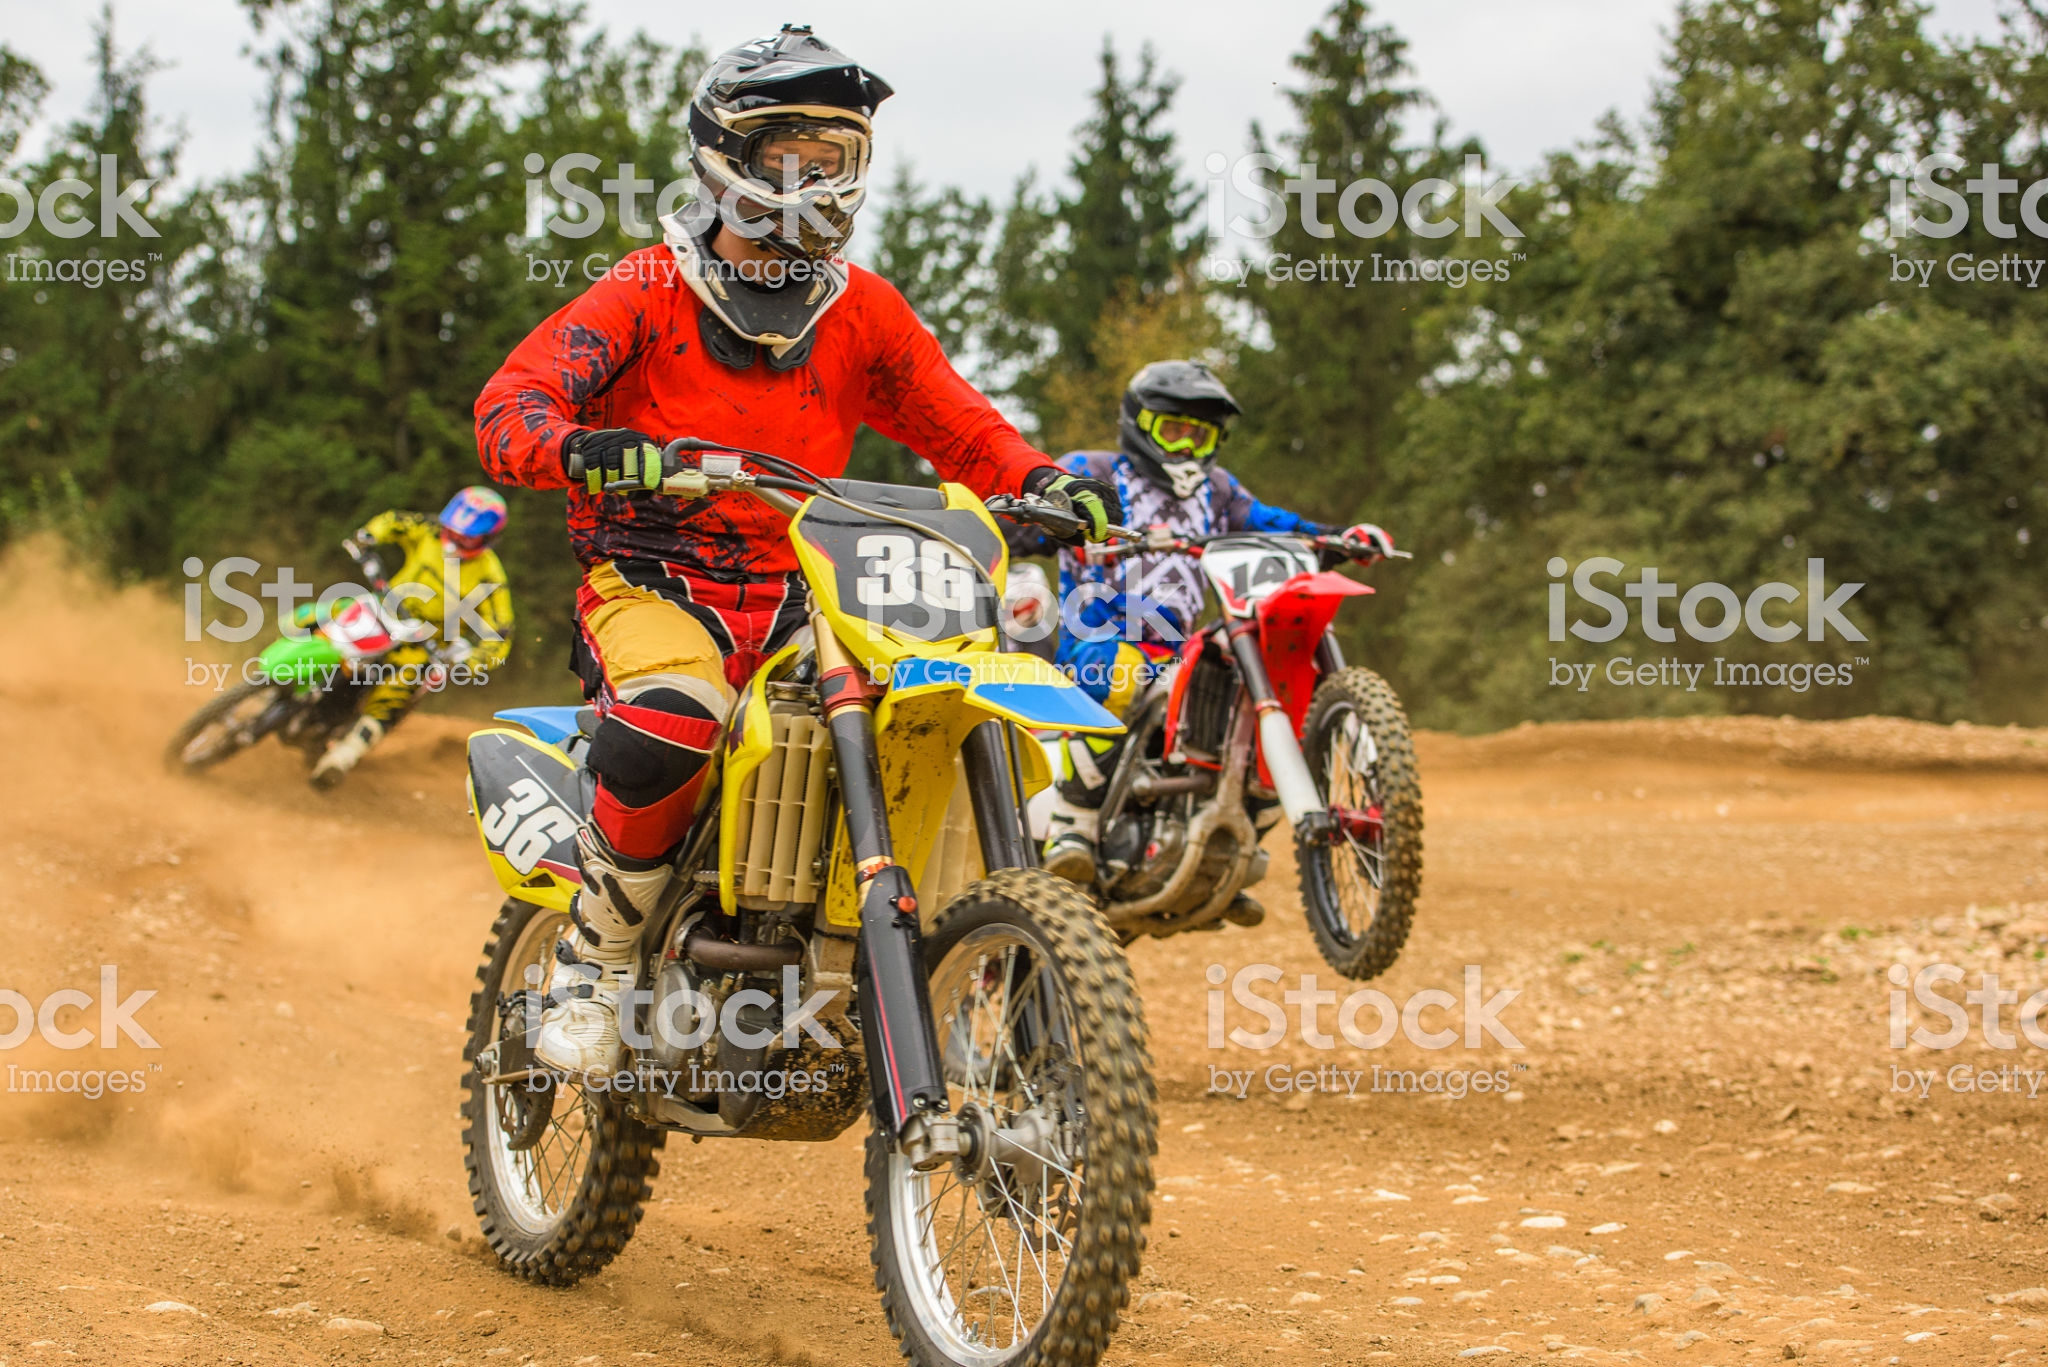helmet: (677, 32, 898, 275), (1128, 355, 1252, 487)
